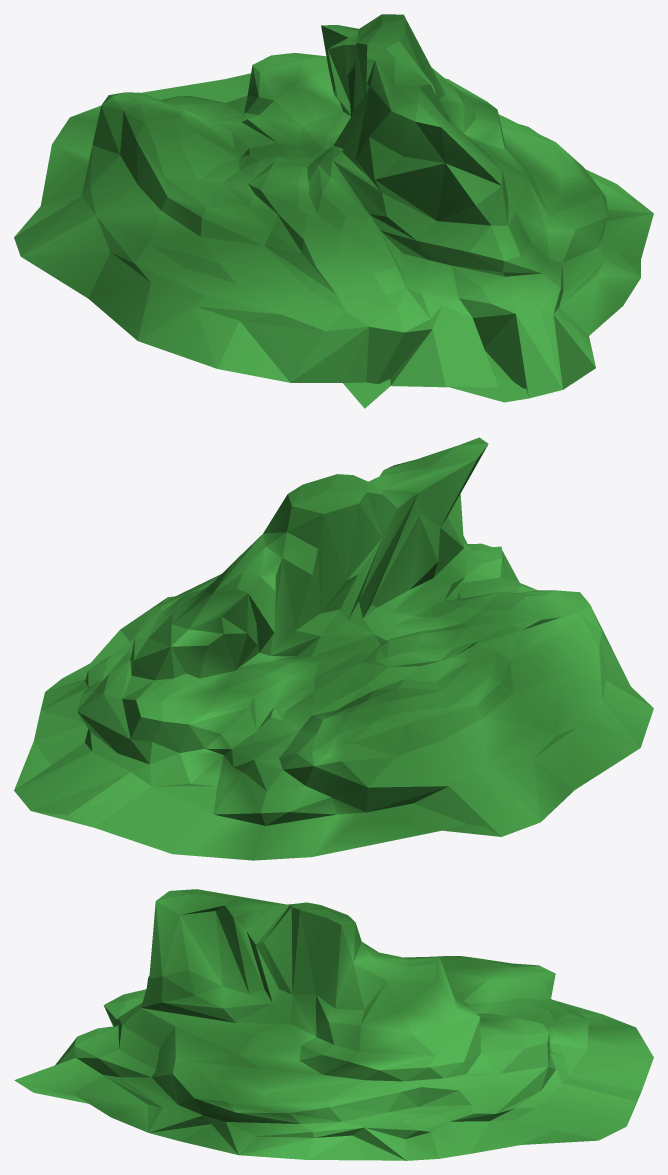
File: montana3.glb
3 renders of one model, top to bottom at view 1: azimuth 30°, elevation 25°; view 2: azimuth 150°, elevation 25°; view 3: azimuth 270°, elevation 25°, orthographic. The views are drawn at different scales.
Visible parts, largest first — view 1: montana; view 2: montana; view 3: montana.
Part boxes in pixels (x1,y1,x2,y2): montana: (14, 14, 653, 408); montana: (14, 437, 653, 860); montana: (14, 889, 653, 1160).
Size of what is drawn, in the model's own units: 680 by 332 by 922.
1 material, 1 textured.
